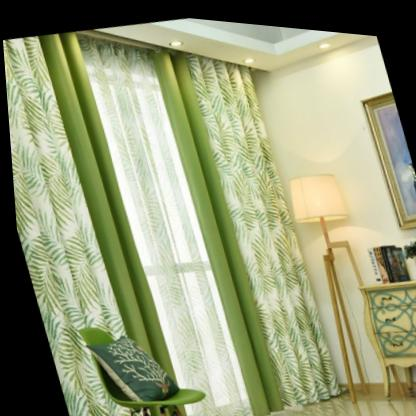Curtains: (2, 29, 338, 416)
